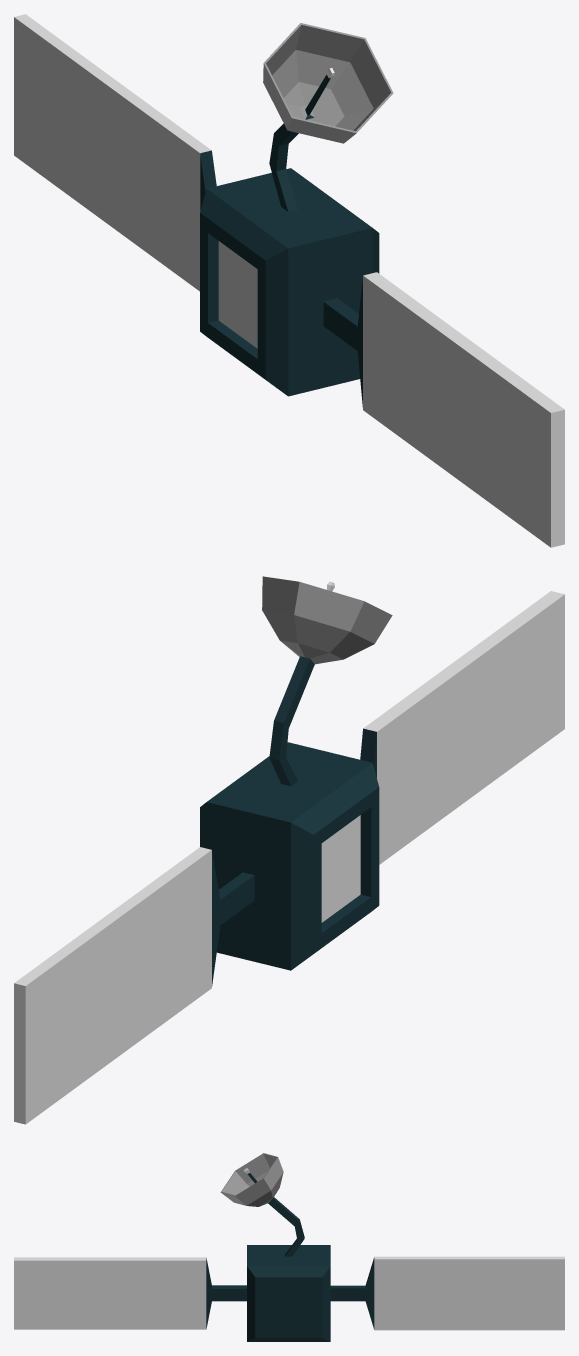
The model's file is Satelites.fbx.
3 renders of one model, top to bottom at view 1: azimuth 30°, elevation 25°; view 2: azimuth 150°, elevation 25°; view 3: azimuth 270°, elevation 25°, orthographic. The views are drawn at different scales.
Parts seen in each view (by area): view 1: Cube; view 2: Cube; view 3: Cube.
Boxes of the visible parts, x1,y1,x2,y2 form: Cube: [14, 14, 564, 547]; Cube: [14, 576, 564, 1124]; Cube: [14, 1153, 564, 1341].
Size of the model in its own units: 200 by 574 by 1642.
